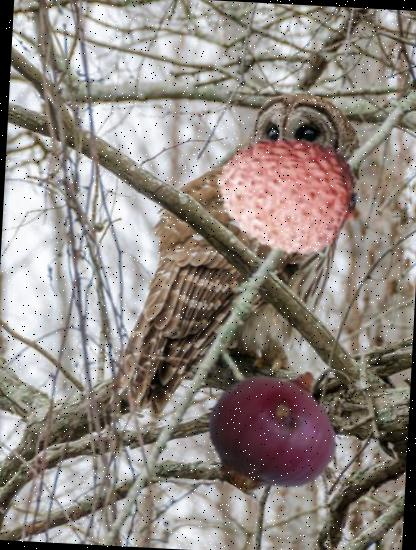Lychee: (213, 122, 360, 268)
Onion: (203, 358, 346, 502)
